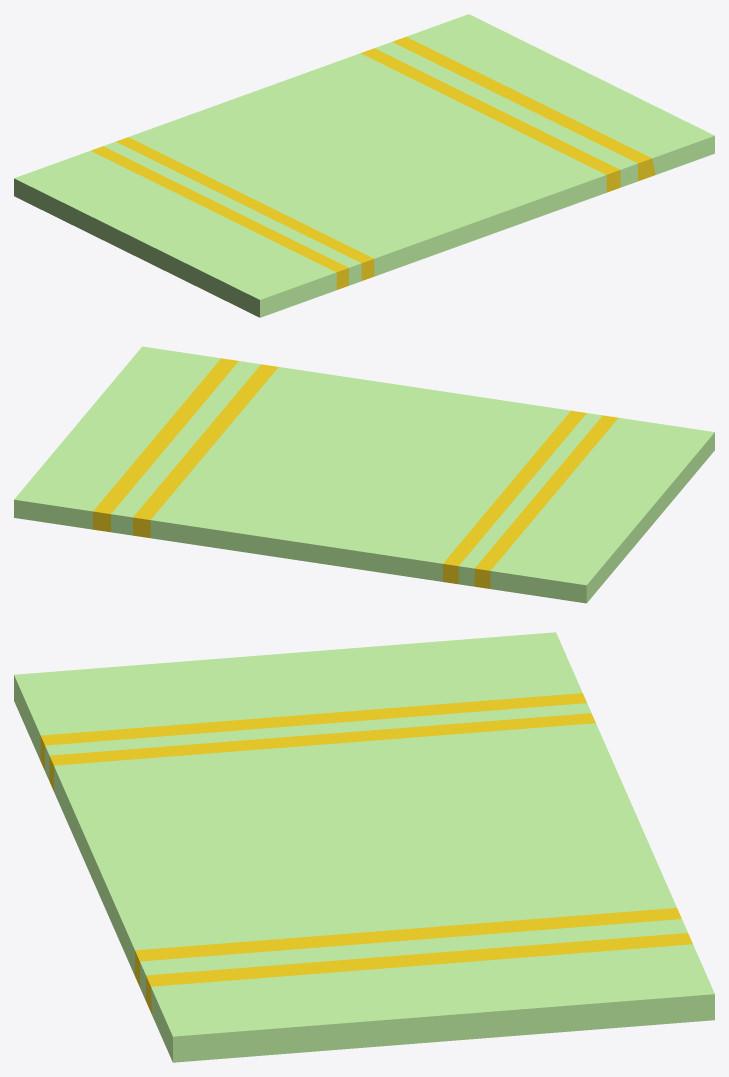
Rendered from коврик ванная.fbx.
3 views of the same model, one above another, from view 1: azimuth 30°, elevation 25°; view 2: azimuth 150°, elevation 25°; view 3: azimuth 270°, elevation 25° (orthographic). The views are drawn at different scales.
Visible parts, largest first — view 1: Plane.009; view 2: Plane.009; view 3: Plane.009.
Part boxes in pixels (<box>): Plane.009: <box>14,14,714,317</box>; Plane.009: <box>14,346,714,603</box>; Plane.009: <box>14,632,714,1062</box>.
Size of the model in its own units: 1561 by 46.87 by 1144.
